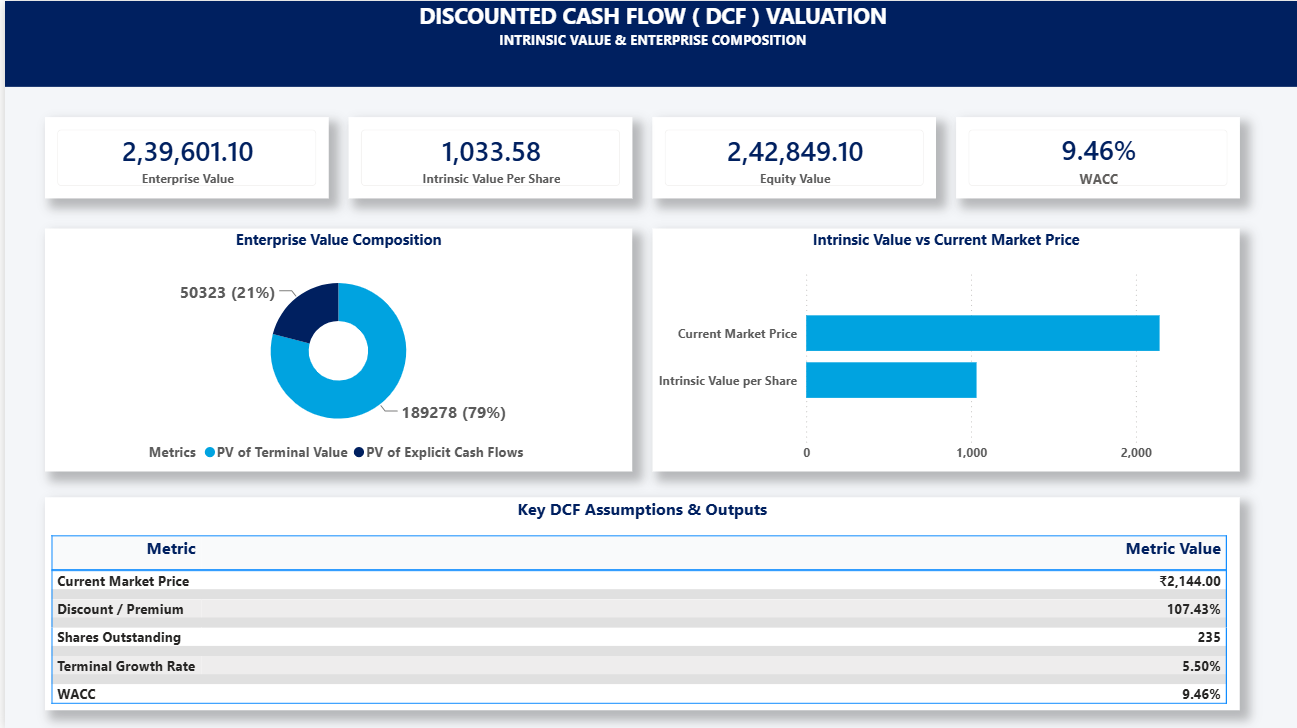

The dashboard page shown, as its layout file describes it:
{"tool":"powerbi","page":{"name":"DCF Valuation","canvas":[1280,720],"ordinal":2},"visuals":[{"type":"cardVisual","fields":{"Data":["Sum(DCF.Value)"]},"box":[40,115,280,80],"z":0},{"type":"cardVisual","fields":{"Data":["Sum(DCF.Value)"]},"box":[640,115,280,80],"z":1000},{"type":"cardVisual","fields":{"Data":["Sum(DCF.Value)"]},"box":[340,115,280,80],"z":2000},{"type":"cardVisual","fields":{"Data":["DCF.WACC"]},"box":[940,115,280,80],"z":3000},{"type":"donutChart","title":"Enterprise Value Composition","fields":{"Category":["DCF.Metrics"],"Y":["Sum(DCF.Value)"]},"box":[40,225,580,240],"z":4000},{"type":"clusteredBarChart","title":"Intrinsic Value vs Current Market Price","fields":{"Category":["DCF.Metrics"],"Y":["Sum(DCF.Value)"]},"box":[640,225,580,240],"z":5000},{"type":"tableEx","title":"Key DCF Assumptions & Outputs","fields":{"Values":["DCF.Metrics","Cashflow.Metric Value"]},"box":[40,490,1180,210],"z":6000},{"type":"textbox","box":[0,0,1280,85],"z":7000}]}

Visuals, with their boxes in screenshot pixels (x1, y1, x2, y2), scaled from the page's 1280x720 canvas onto the 1297x728 screenshot:
cardVisual - Sum(DCF.Value): 41 116 324 197
cardVisual - Sum(DCF.Value): 648 116 932 197
cardVisual - Sum(DCF.Value): 345 116 628 197
cardVisual - DCF.WACC: 952 116 1236 197
"Enterprise Value Composition" donutChart: 41 228 628 470
"Intrinsic Value vs Current Market Price" clusteredBarChart: 648 228 1236 470
"Key DCF Assumptions & Outputs" tableEx: 41 495 1236 708
textbox: 0 0 1296 86
